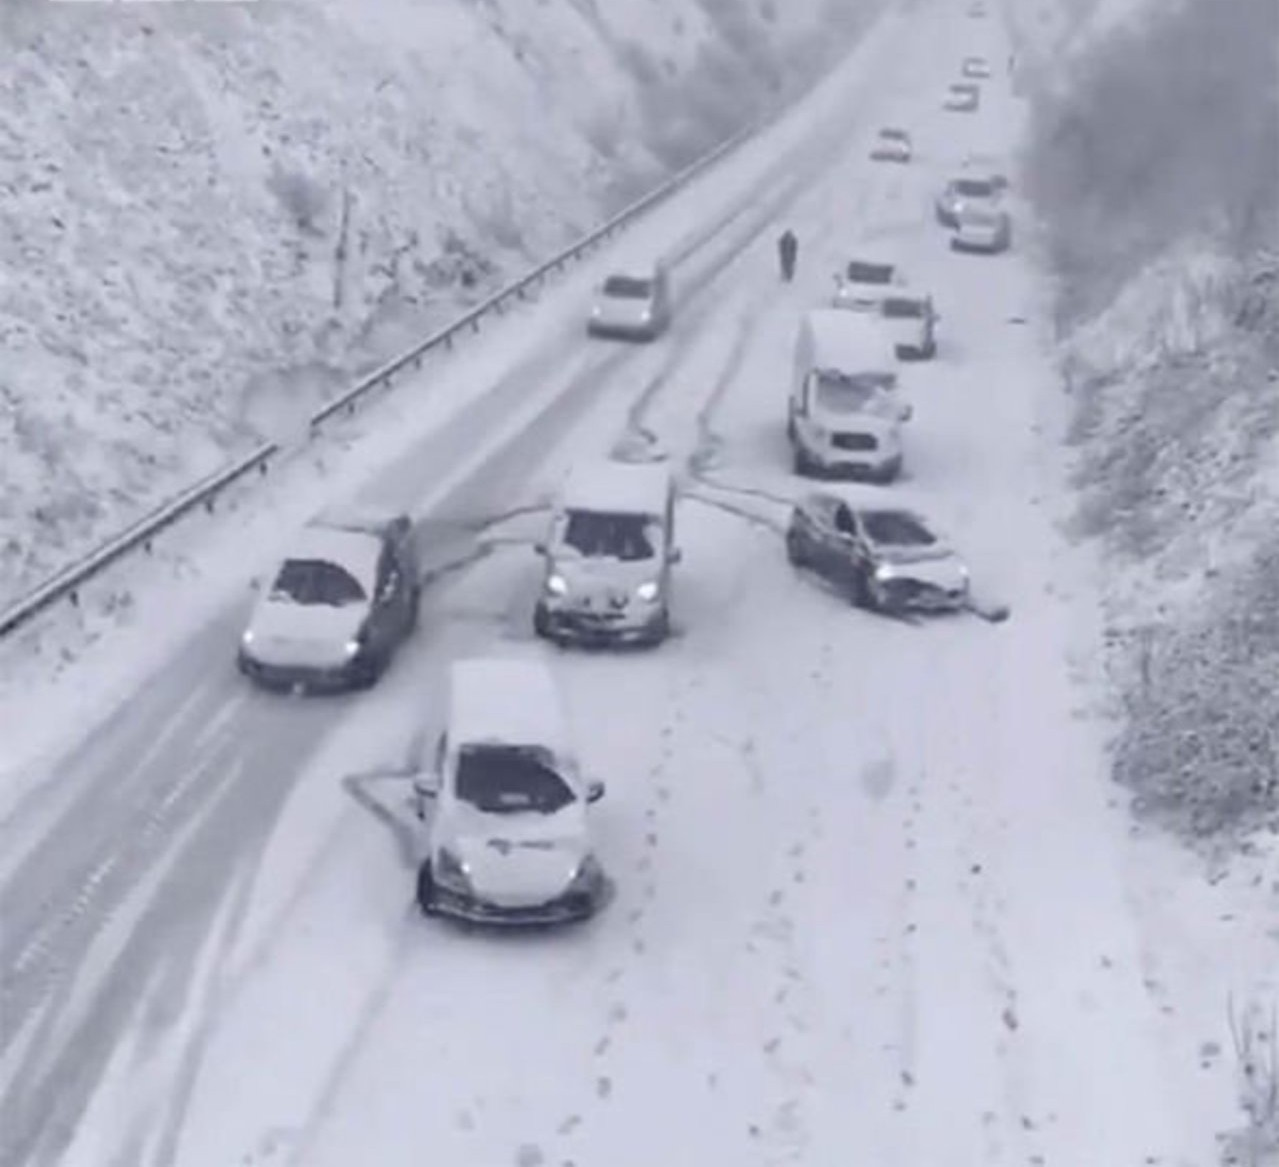car: (427, 657, 606, 938), (242, 502, 419, 693), (783, 491, 1003, 625), (544, 457, 677, 646), (789, 303, 899, 466), (586, 251, 669, 336), (875, 284, 944, 351), (830, 252, 893, 309), (955, 203, 1011, 248), (934, 172, 990, 213), (868, 126, 910, 157), (943, 81, 978, 108), (961, 51, 993, 78)
person: (771, 224, 797, 281)
